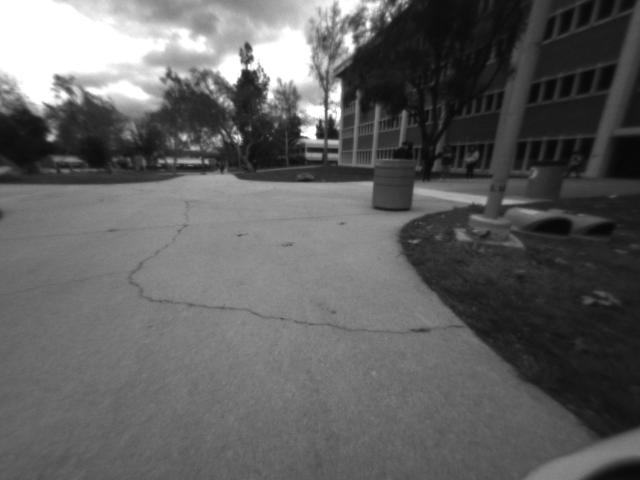trashcan: (372, 158, 418, 213), (527, 158, 562, 204)
